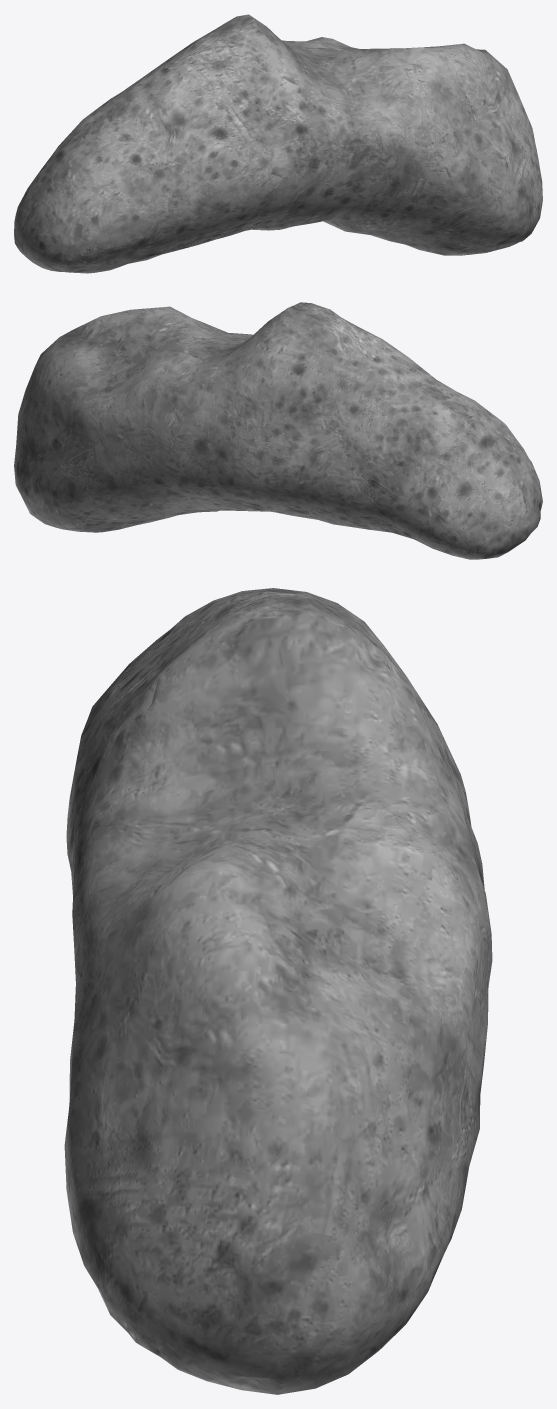
File: Eros_1_10.glb
3 views of the same model, one above another, from view 1: azimuth 30°, elevation 25°; view 2: azimuth 150°, elevation 25°; view 3: azimuth 270°, elevation 25° (orthographic). The views are drawn at different scales.
Parts seen in each view (by area): view 1: eros_LP; view 2: eros_LP; view 3: eros_LP.
Boxes of the visible parts, box(x1,y1,x2,y2) form: eros_LP: box(14, 14, 542, 273); eros_LP: box(14, 302, 542, 559); eros_LP: box(64, 588, 492, 1394).
Size of the model in its own units: 3260 by 1681 by 1185.
Materials: 1 (1 with a texture image).
